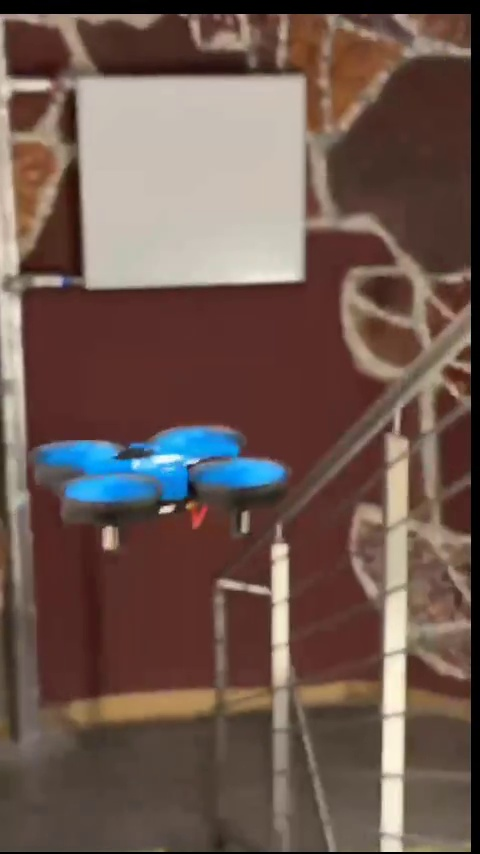drone: (29, 422, 289, 547)
